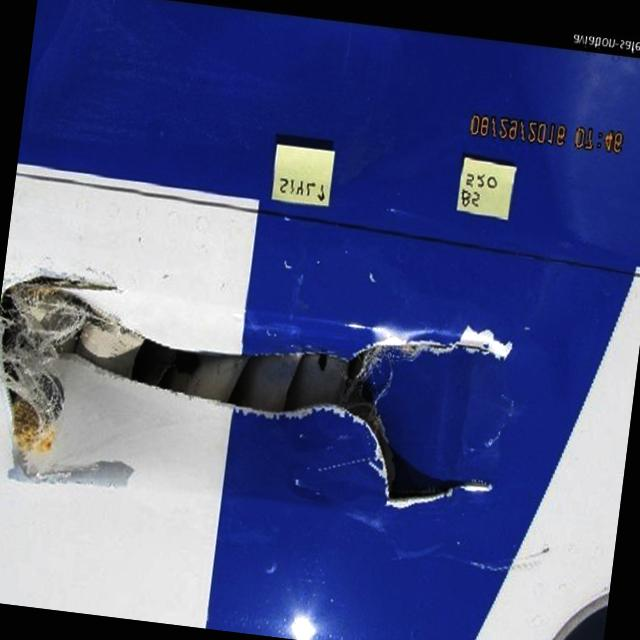crack: (398, 458, 495, 525), (400, 327, 503, 370)
